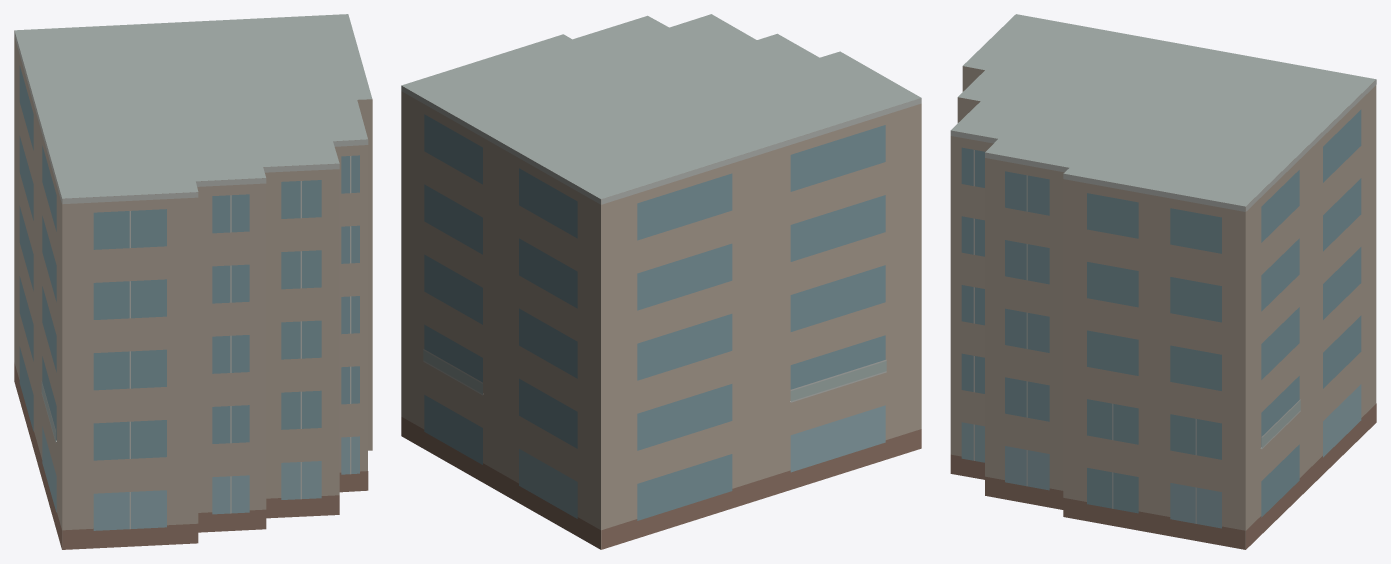
Rendered from survey-upis-32882023.glb.
3 views of the same model, side by side, from view 1: azimuth 30°, elevation 25°; view 2: azimuth 150°, elevation 25°; view 3: azimuth 270°, elevation 25° (orthographic). The views are drawn at different scales.
Parts seen in each view (by area): view 1: survey-upis-32882023.tmp; view 2: survey-upis-32882023.tmp; view 3: survey-upis-32882023.tmp.
Boxes of the visible parts, x1=… form: survey-upis-32882023.tmp: x1=14, y1=14, x2=372, y2=549; survey-upis-32882023.tmp: x1=401, y1=14, x2=921, y2=549; survey-upis-32882023.tmp: x1=950, y1=14, x2=1376, y2=549.
Bounding box in the file's own units: 18.41 × 15.3 × 17.21.
